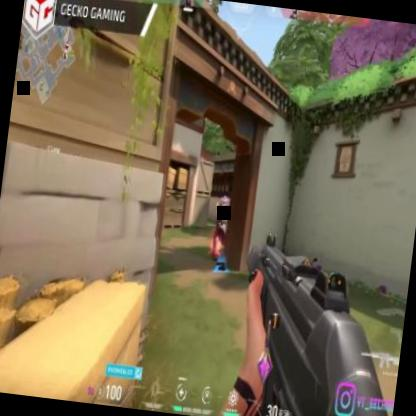enemy: (210, 194, 232, 256)
enemy_head: (219, 196, 228, 208)
